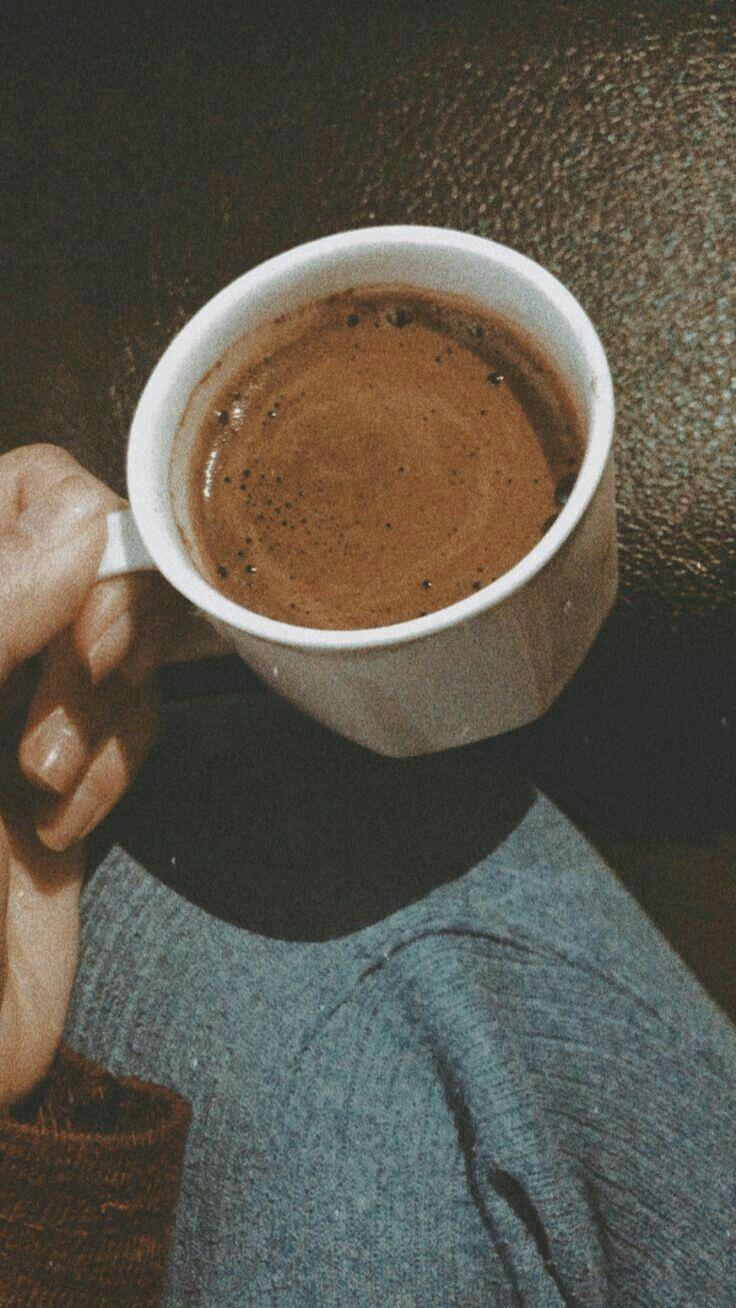cup-handle: (48, 220, 623, 759)
